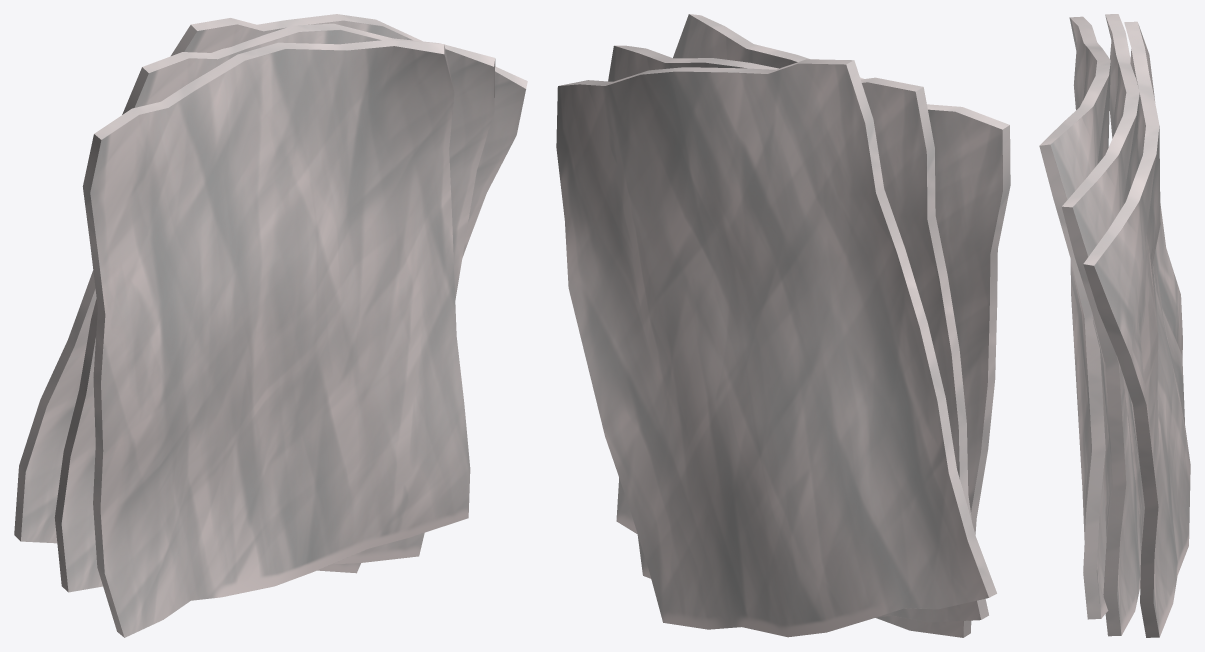
The model's file is yuba_001.fbx.
3 views of the same model, side by side, from view 1: azimuth 30°, elevation 25°; view 2: azimuth 150°, elevation 25°; view 3: azimuth 270°, elevation 25° (orthographic). The views are drawn at different scales.
Parts seen in each view (by area): view 1: polySurface3; view 2: polySurface3; view 3: polySurface3.
Boxes of the visible parts, x1=… form: polySurface3: x1=14, y1=14, x2=527, y2=637; polySurface3: x1=556, y1=14, x2=1010, y2=637; polySurface3: x1=1039, y1=14, x2=1190, y2=637.
Size of the model in its own units: 43.82 by 52.48 by 13.32.
